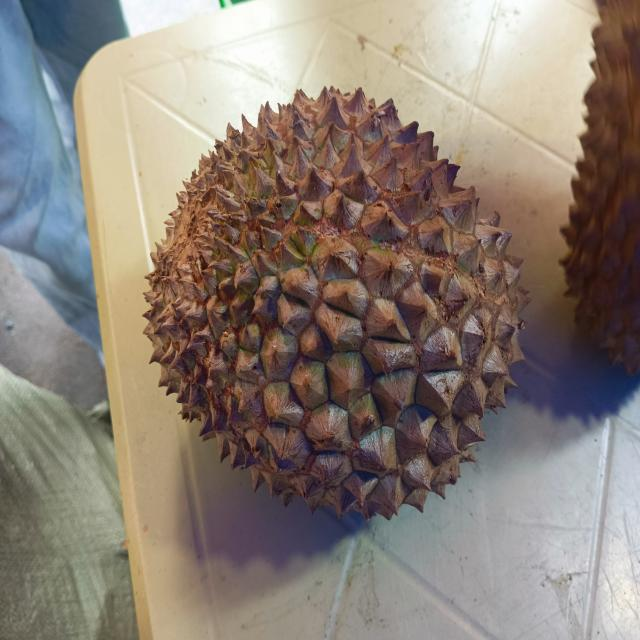mature: (144, 87, 529, 518)
